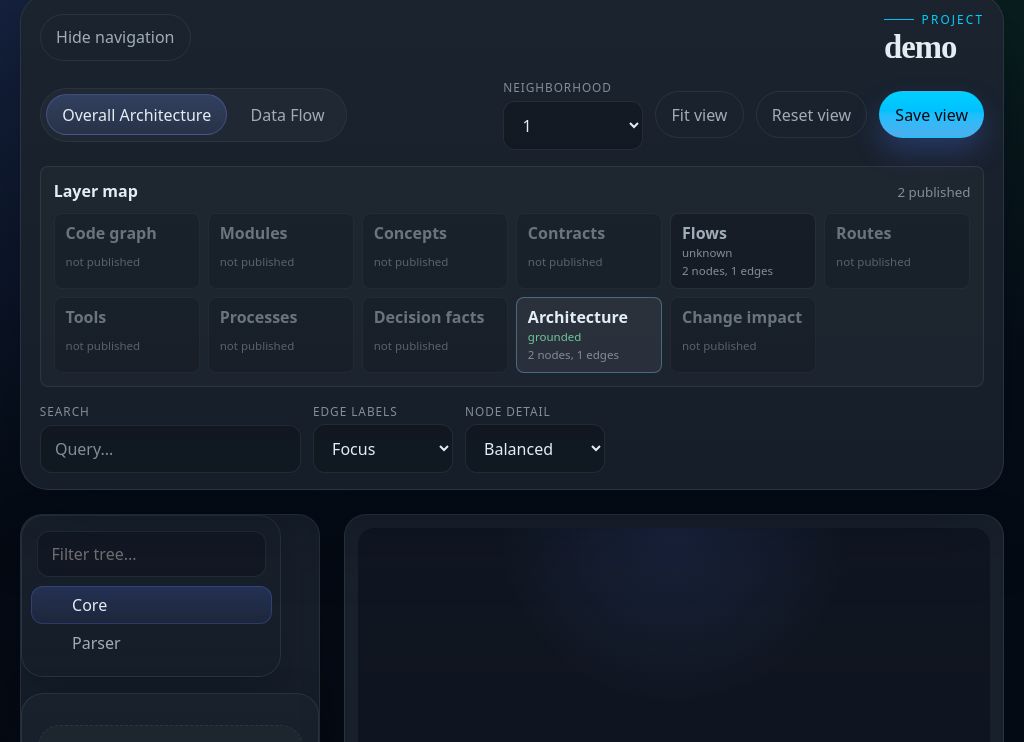
Test: cotx-workbench route › saves a view and renders it in the saved views panel
Check: the text "Core" is shown, box 72,596 -> 107,615
Click the button "Save view". click: (932, 115)
box: 879,91 -> 984,138
(page scrolled)
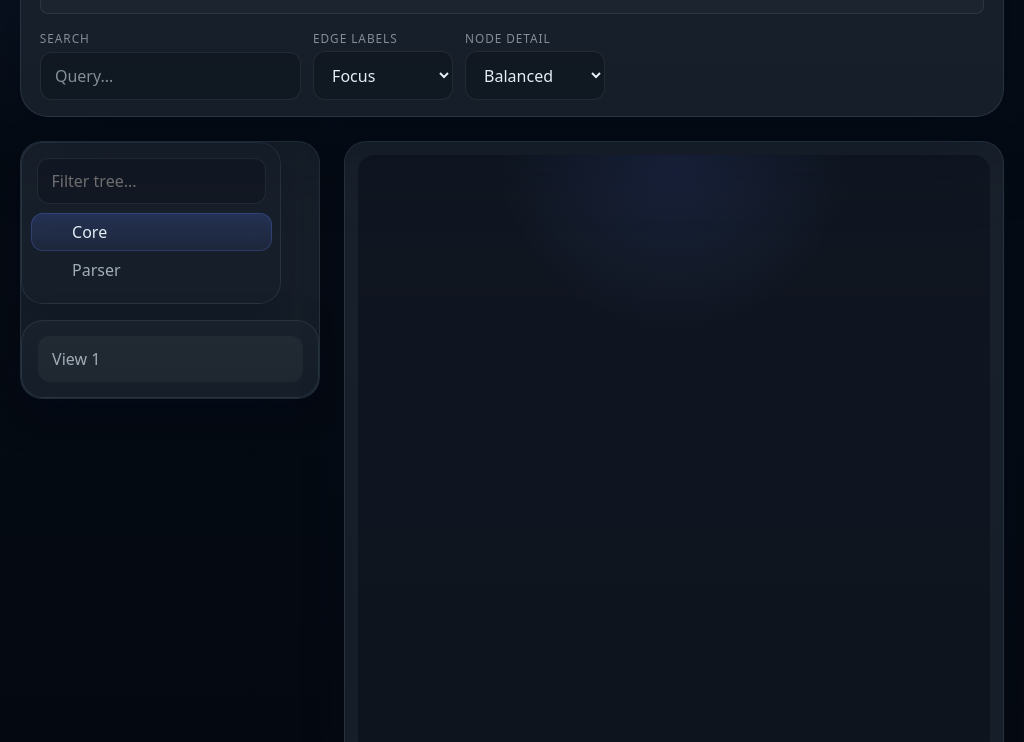
Check: the option "View 1" is shown, box 38,336 -> 303,382
